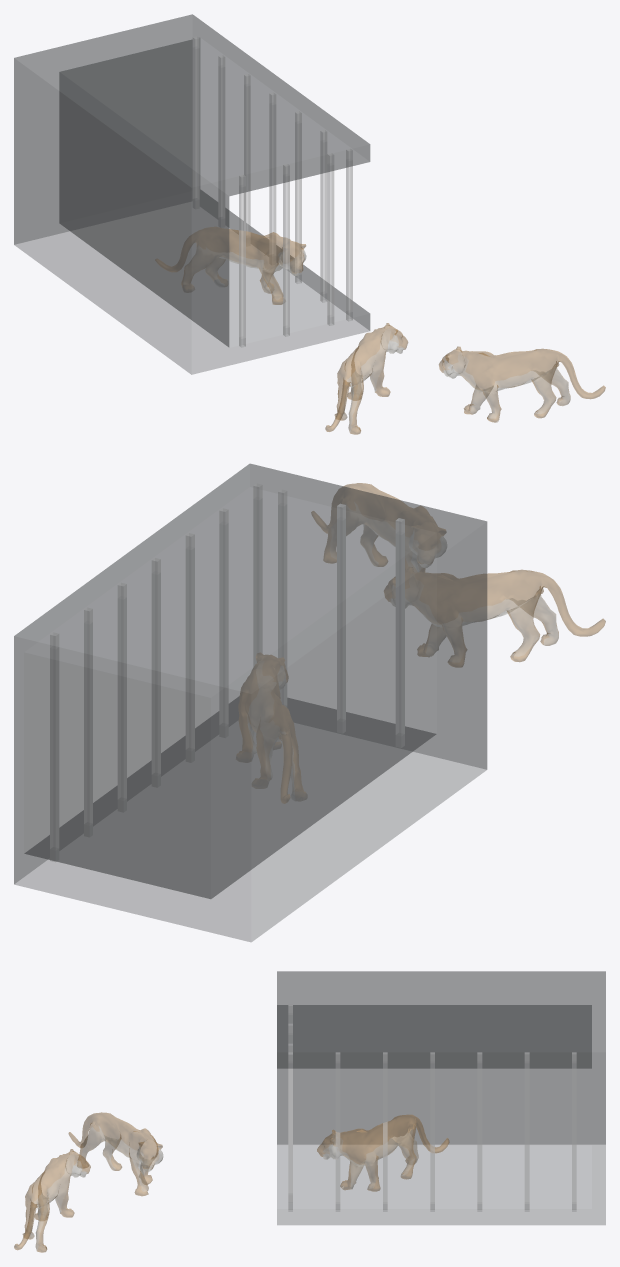
Rendered from TigerZone.fbx.
The picture shows the model from 3 angles, top to bottom: view 1: azimuth 30°, elevation 25°; view 2: azimuth 150°, elevation 25°; view 3: azimuth 270°, elevation 25°; orthographic projection. The views are drawn at different scales.
Parts seen in each view (by area): view 1: T igerZone; view 2: T igerZone; view 3: T igerZone.
Boxes of the visible parts, left/top/right/bottom form: T igerZone: left=14, top=14, right=605, bottom=434; T igerZone: left=14, top=463, right=605, bottom=941; T igerZone: left=14, top=971, right=605, bottom=1252.
Bounding box in the file's own units: 306 × 200 × 619.
